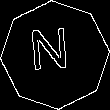N_S: (33, 28, 77, 82)
